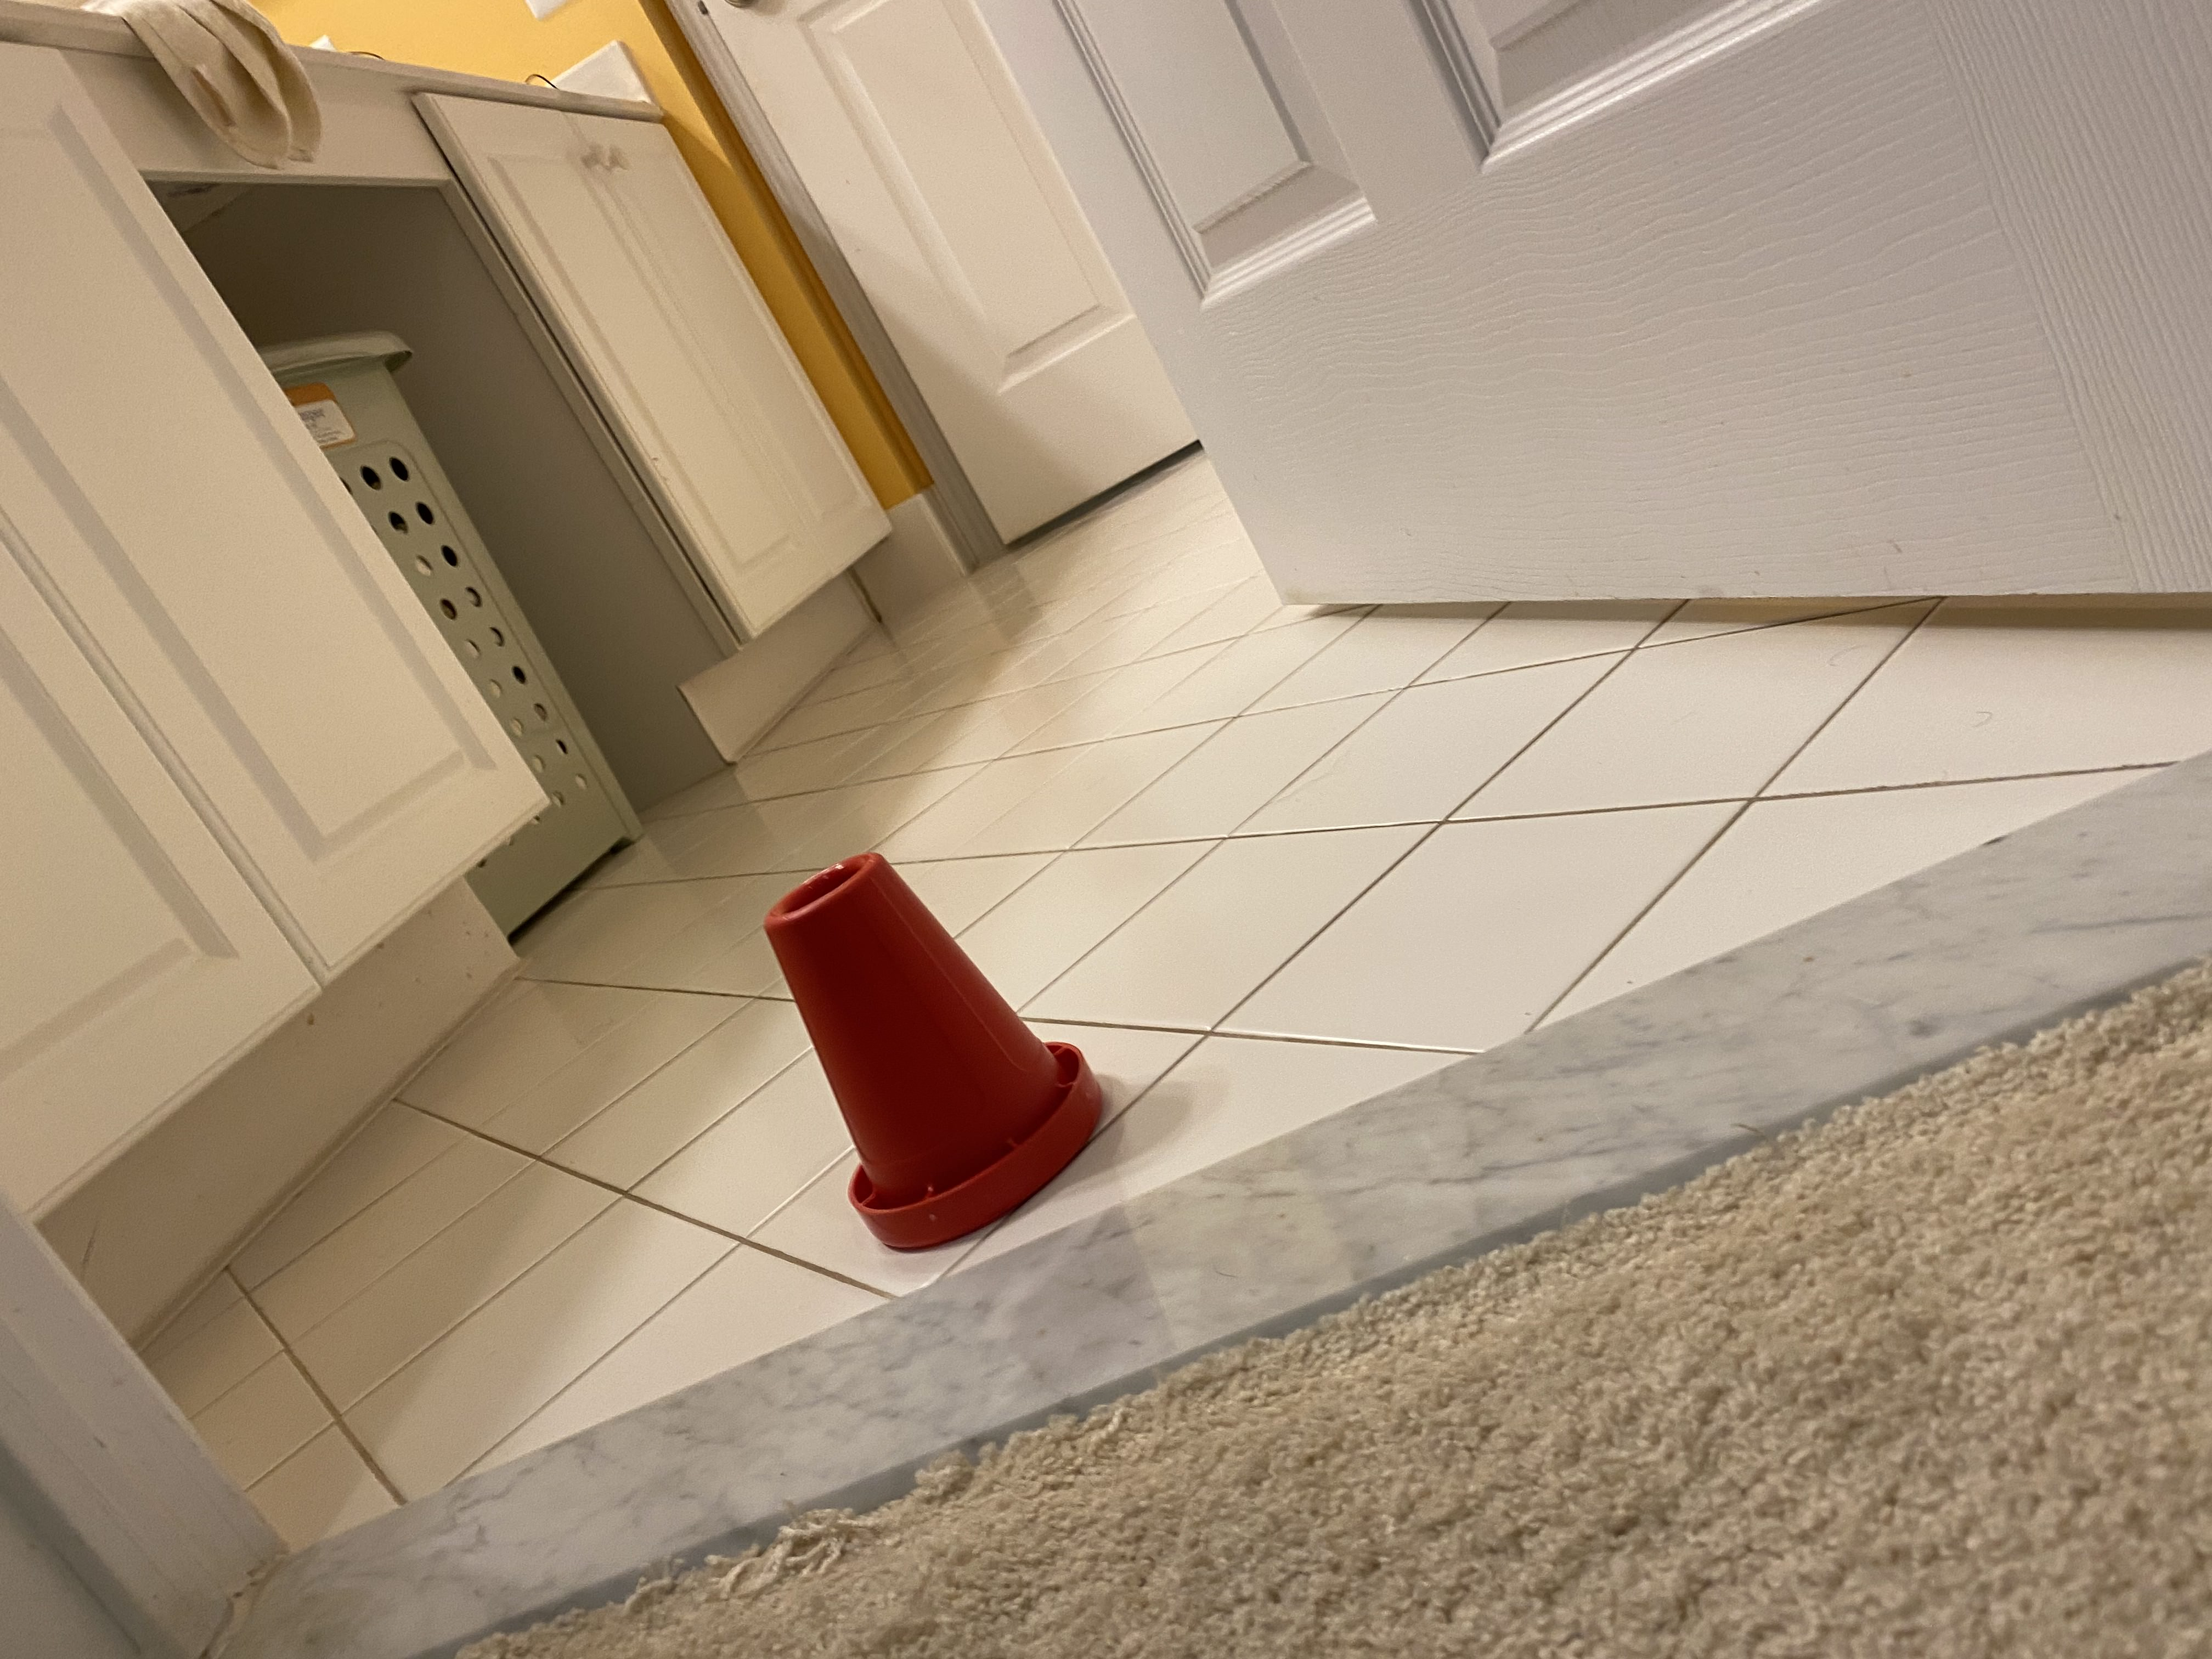redCone: (735, 845, 1109, 1260)
